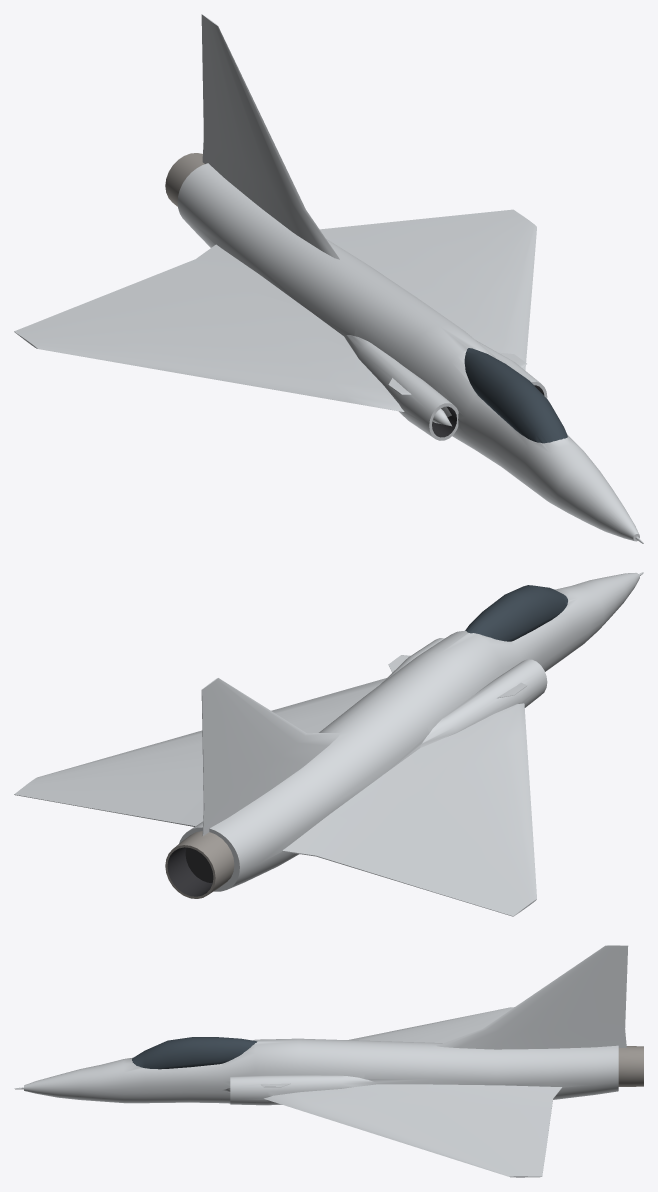
3 renders of one model, top to bottom at view 1: azimuth 30°, elevation 25°; view 2: azimuth 150°, elevation 25°; view 3: azimuth 270°, elevation 25°, orthographic. The views are drawn at different scales.
Visible parts, largest first — view 1: Airframe; view 2: Airframe; view 3: Airframe.
Part boxes in pixels (bbox=[...]): Airframe: bbox=[14, 14, 643, 543]; Airframe: bbox=[14, 572, 643, 916]; Airframe: bbox=[14, 945, 643, 1177].
Bounding box in the file's own units: 9.13 × 3.92 × 14.36.
